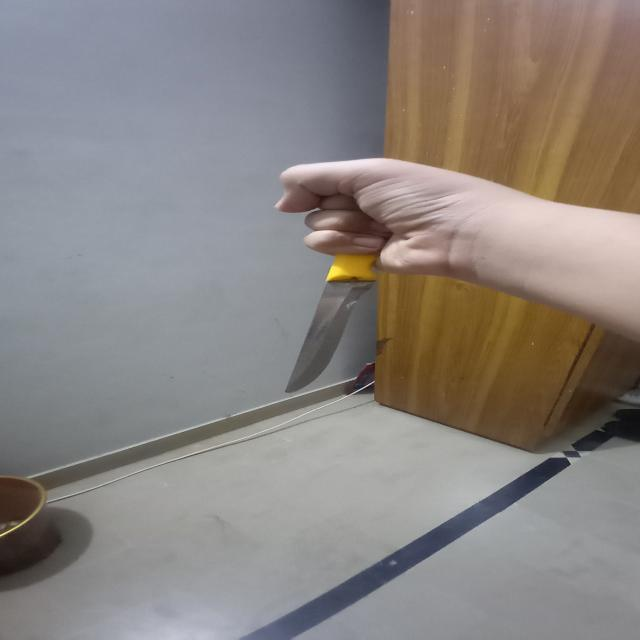weapon: (250, 209, 402, 399)
